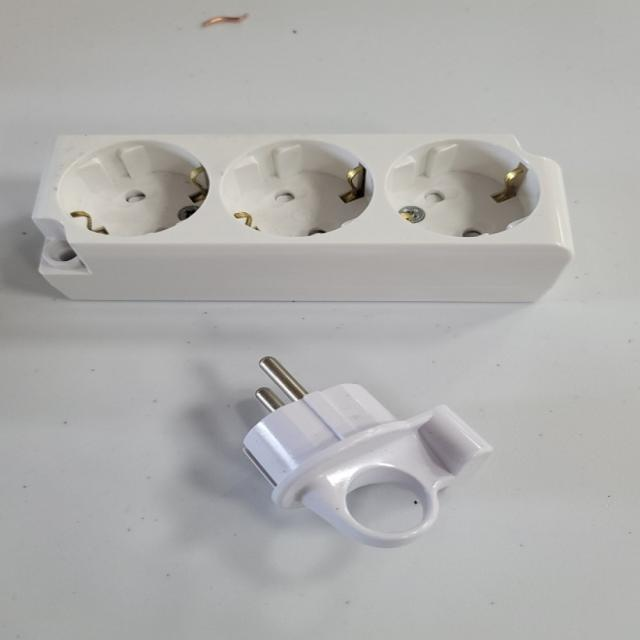typeb: (39, 106, 585, 314)
